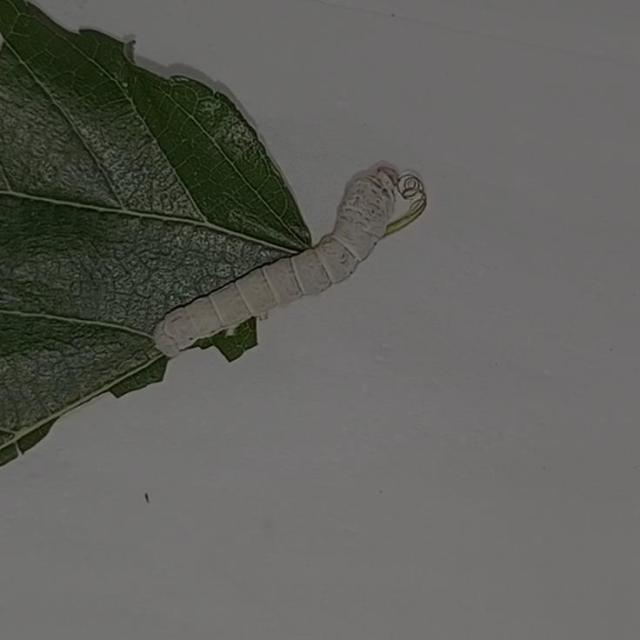Healthy: (139, 147, 436, 363)
